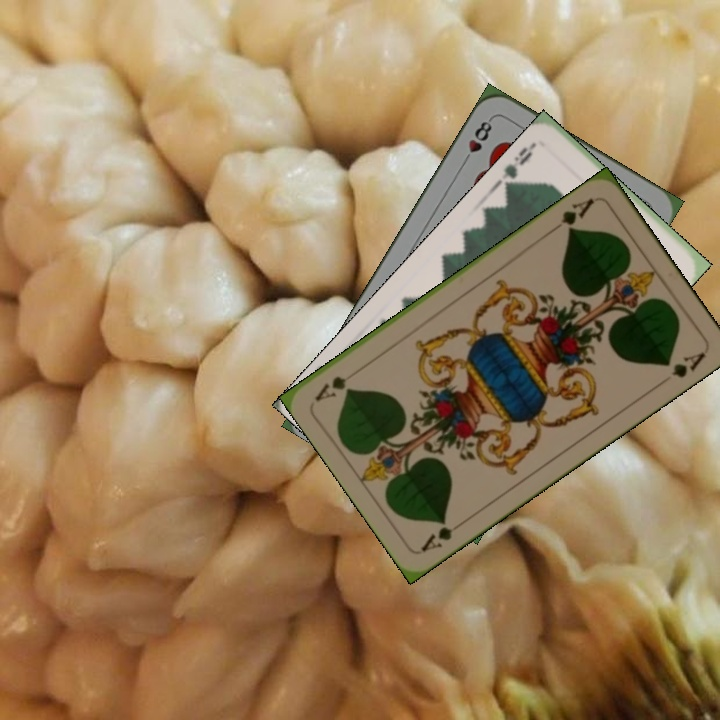G9: (494, 138, 539, 189)
GA: (547, 193, 598, 235), (416, 515, 469, 554)
H8: (459, 114, 495, 167)
